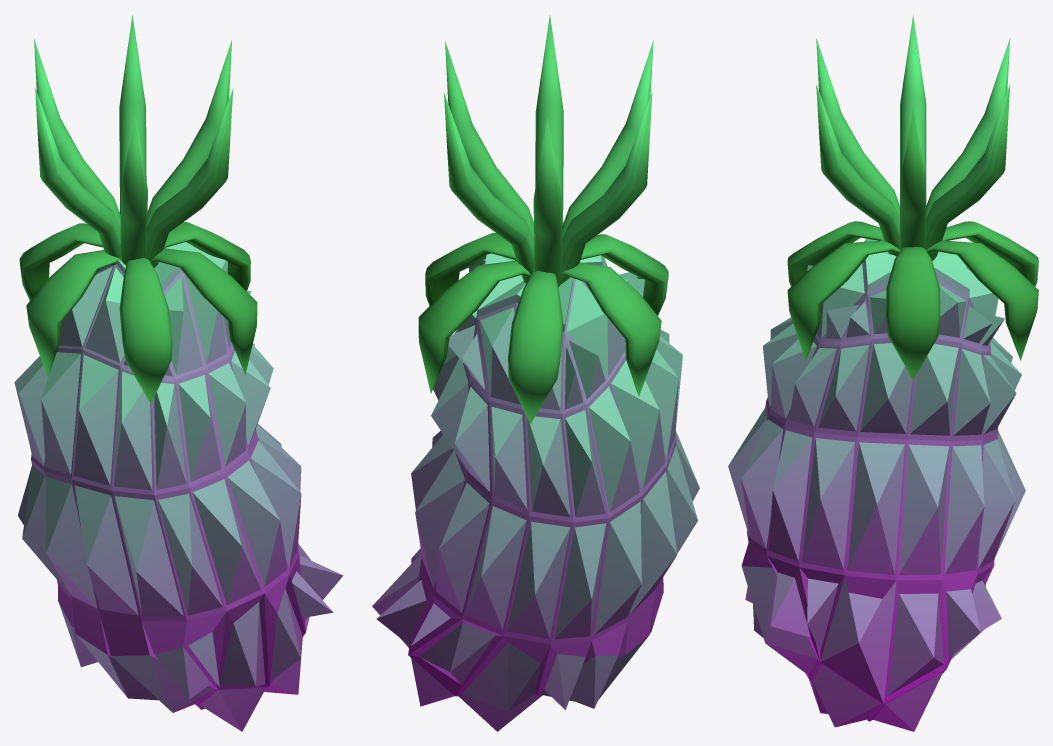
File: Pineapple.fbx
3 views of the same model, side by side, from view 1: azimuth 30°, elevation 25°; view 2: azimuth 150°, elevation 25°; view 3: azimuth 270°, elevation 25° (orthographic). The views are drawn at different scales.
Parts seen in each view (by area): view 1: Pinapple; view 2: Pinapple; view 3: Pinapple.
Boxes of the visible parts, left/top/right/bottom form: Pinapple: left=14, top=14, right=343, bottom=731; Pinapple: left=372, top=15, right=699, bottom=731; Pinapple: left=728, top=14, right=1038, bottom=731.
Size of the model in its own units: 1.83 by 4.34 by 1.94.
